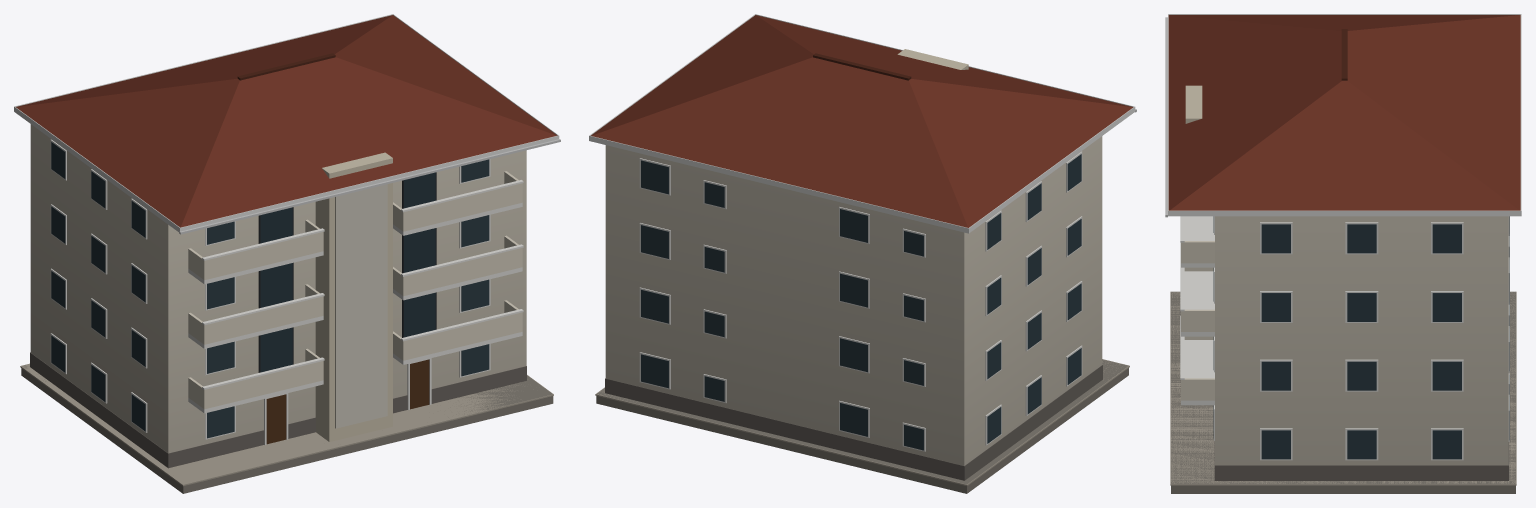
Rendered from ns_flats4_lod1.glb.
The picture shows the model from 3 angles, left to right: view 1: azimuth 30°, elevation 25°; view 2: azimuth 150°, elevation 25°; view 3: azimuth 270°, elevation 25°; orthographic projection. The views are drawn at different scales.
Visible parts, largest first — view 1: ns_flats4_lod1; view 2: ns_flats4_lod1; view 3: ns_flats4_lod1.
Boxes of the visible parts, x1,y1,x2,y2 form: ns_flats4_lod1: (14, 14, 560, 493); ns_flats4_lod1: (589, 14, 1136, 493); ns_flats4_lod1: (1165, 14, 1521, 493).
Size of the model in its own units: 19.12 by 15.53 by 14.56.
